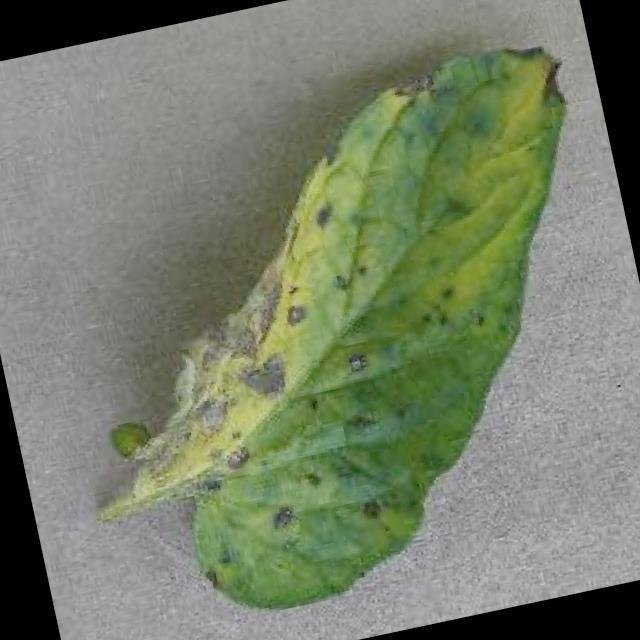Tomato Early blight leaf: (37, 31, 640, 637)
